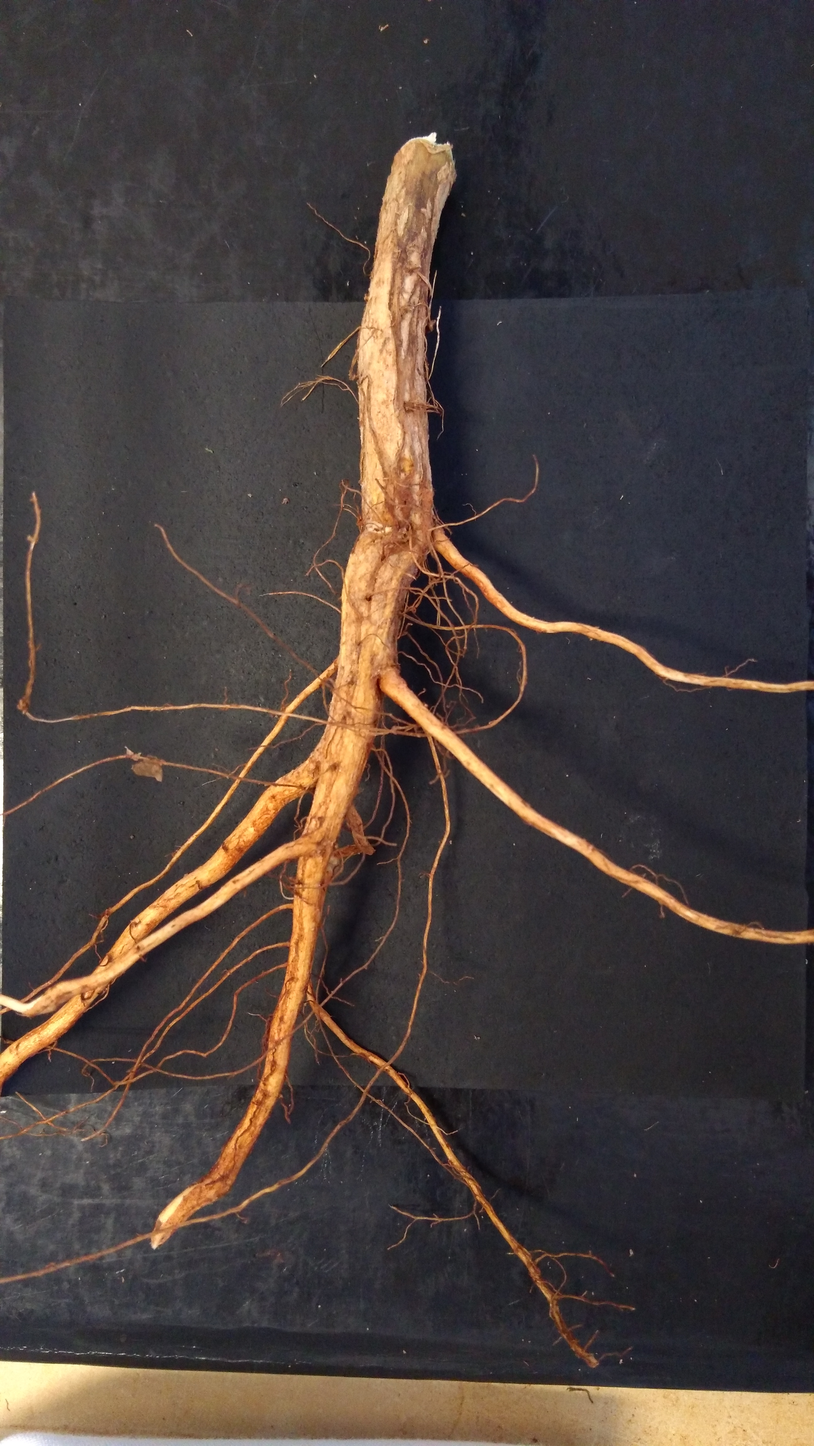nodule: (396, 527, 407, 540), (328, 855, 340, 866), (428, 319, 436, 332), (364, 293, 368, 301)
